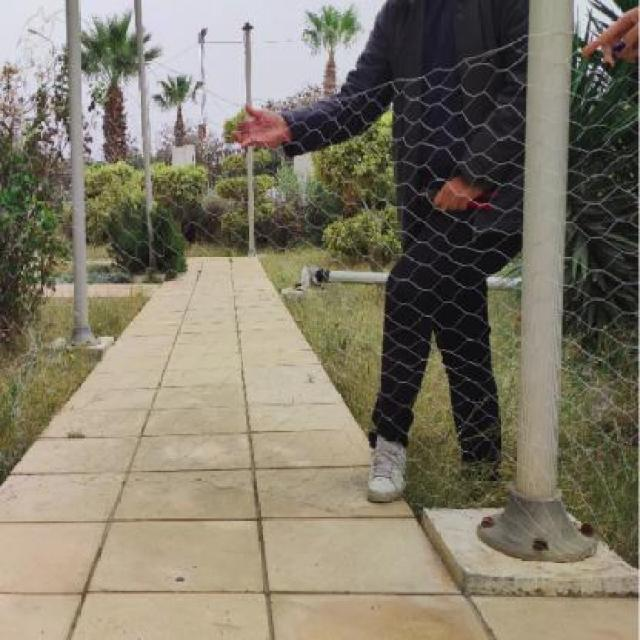fence line: (206, 64, 475, 102), (3, 19, 32, 65)
